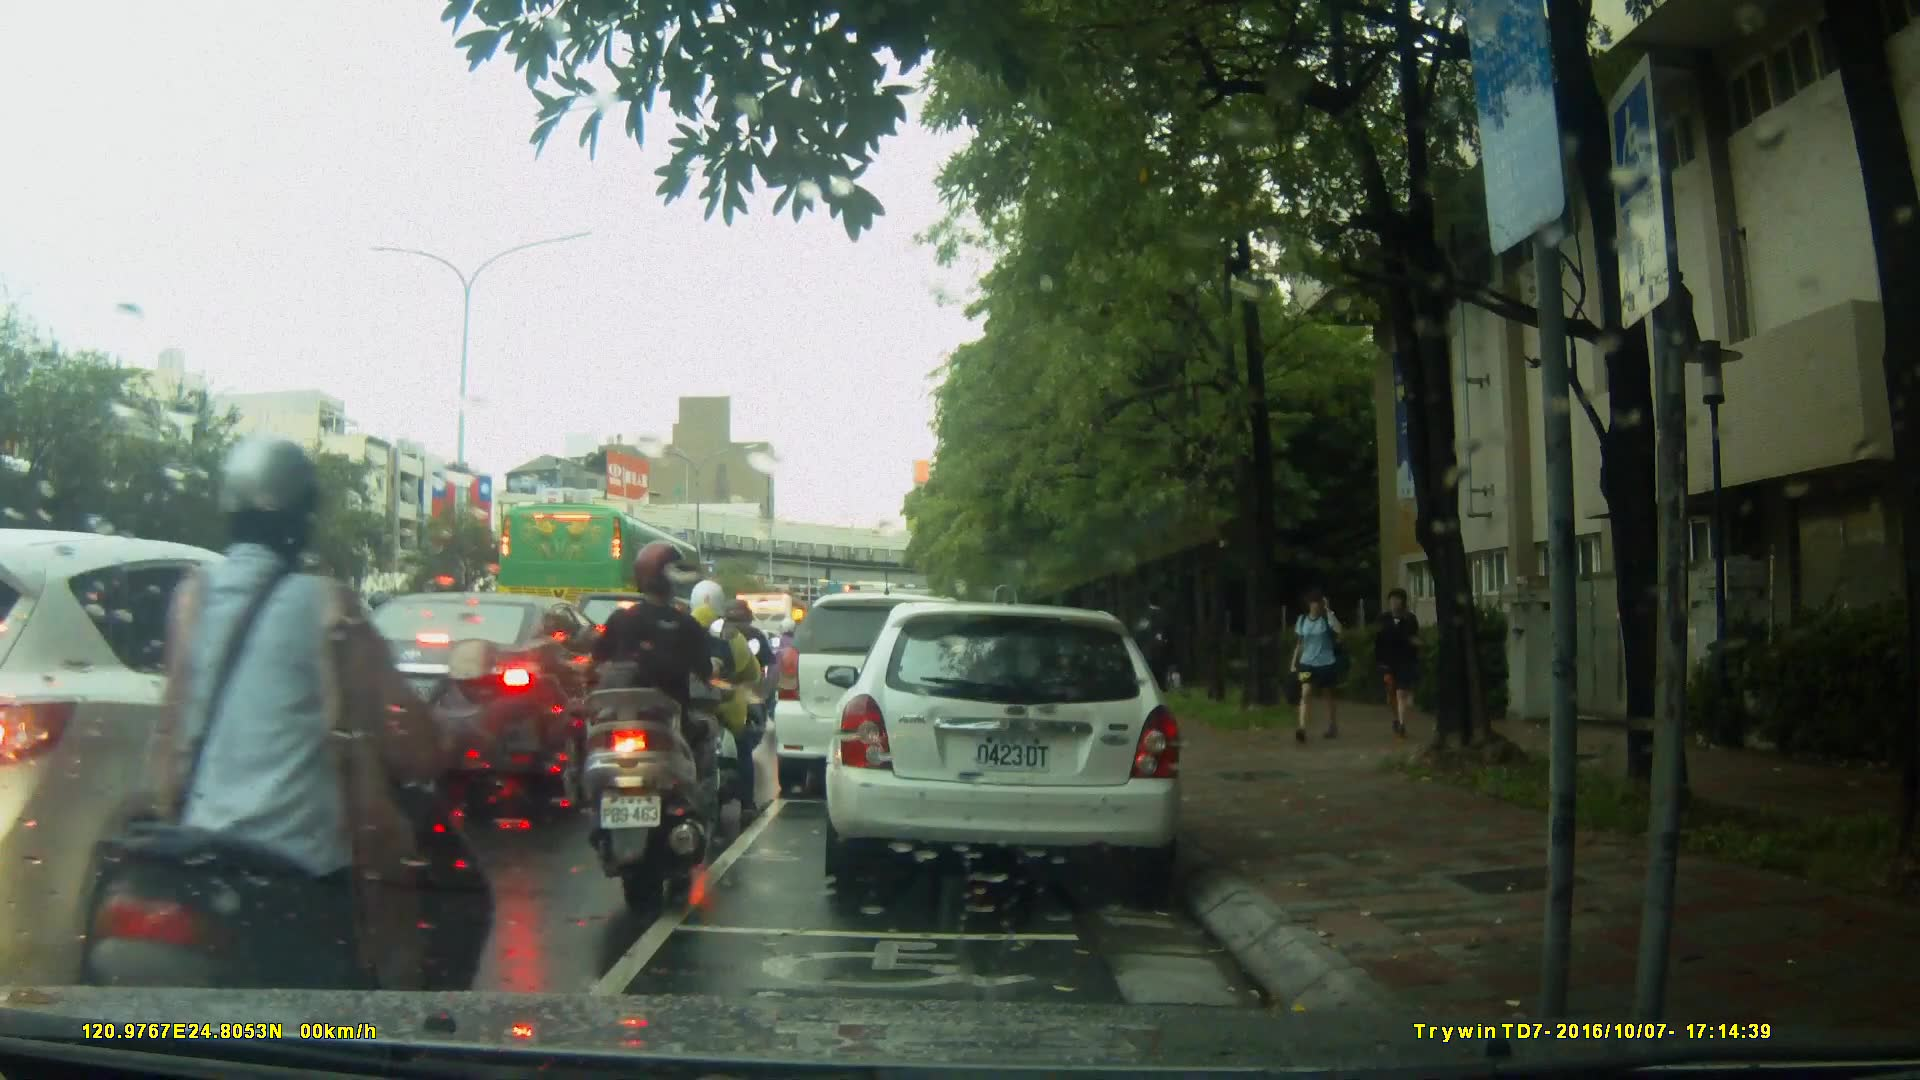pedestrian: (1278, 584, 1359, 747), (1372, 579, 1428, 747), (1130, 593, 1178, 742)
rider: (72, 433, 507, 1079), (581, 541, 719, 902), (676, 576, 764, 818), (763, 617, 812, 715)
vehicle: (1, 529, 445, 986), (831, 592, 1196, 897), (312, 590, 647, 807), (770, 592, 999, 801), (495, 502, 707, 638)
